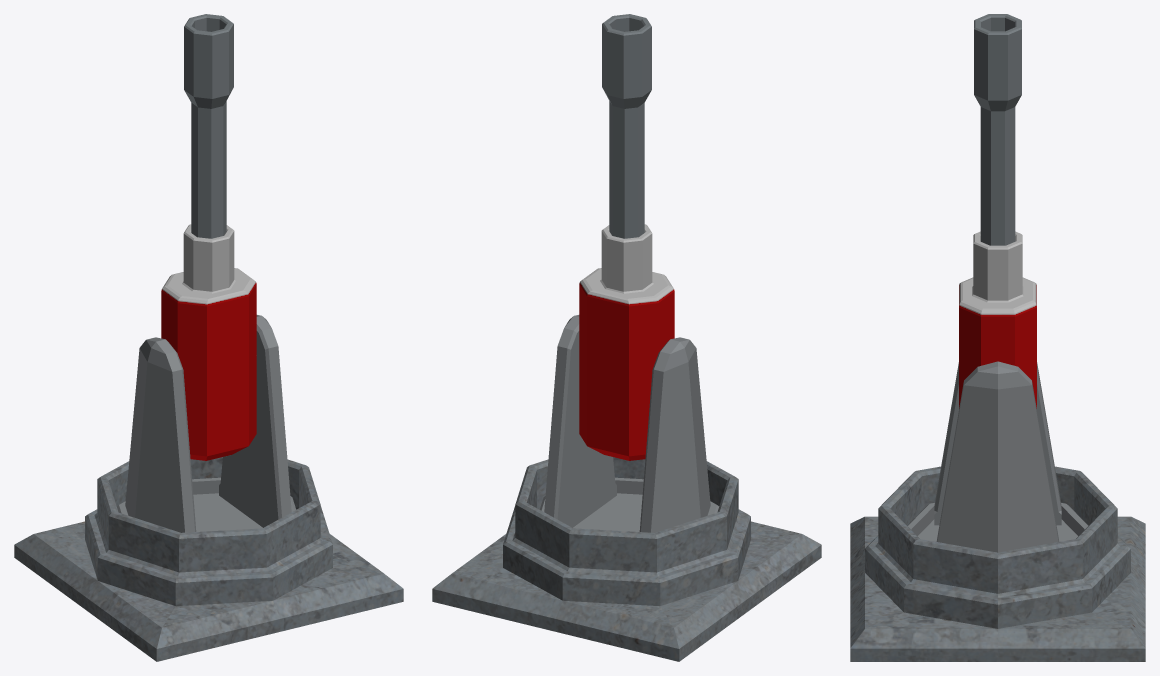
Rendered from turret.fbx.
The picture shows the model from 3 angles, left to right: view 1: azimuth 30°, elevation 25°; view 2: azimuth 150°, elevation 25°; view 3: azimuth 270°, elevation 25°; orthographic projection. The views are drawn at different scales.
Parts seen in each view (by area): view 1: Socket, Hinges, Cannon, Barrel; view 2: Socket, Hinges, Cannon, Barrel; view 3: Socket, Hinges, Barrel, Cannon.
Boxes of the visible parts, x1,y1,x2,y2 form: Socket: [14, 457, 403, 661]; Hinges: [116, 315, 296, 532]; Cannon: [161, 224, 256, 460]; Barrel: [184, 14, 233, 238]; Socket: [432, 457, 821, 661]; Hinges: [539, 315, 719, 532]; Cannon: [579, 224, 674, 460]; Barrel: [602, 14, 651, 238]; Socket: [850, 466, 1145, 661]; Hinges: [907, 361, 1088, 552]; Barrel: [974, 14, 1021, 245]; Cannon: [959, 231, 1036, 408].
Size of the model in its own units: 200 by 430 by 200.
